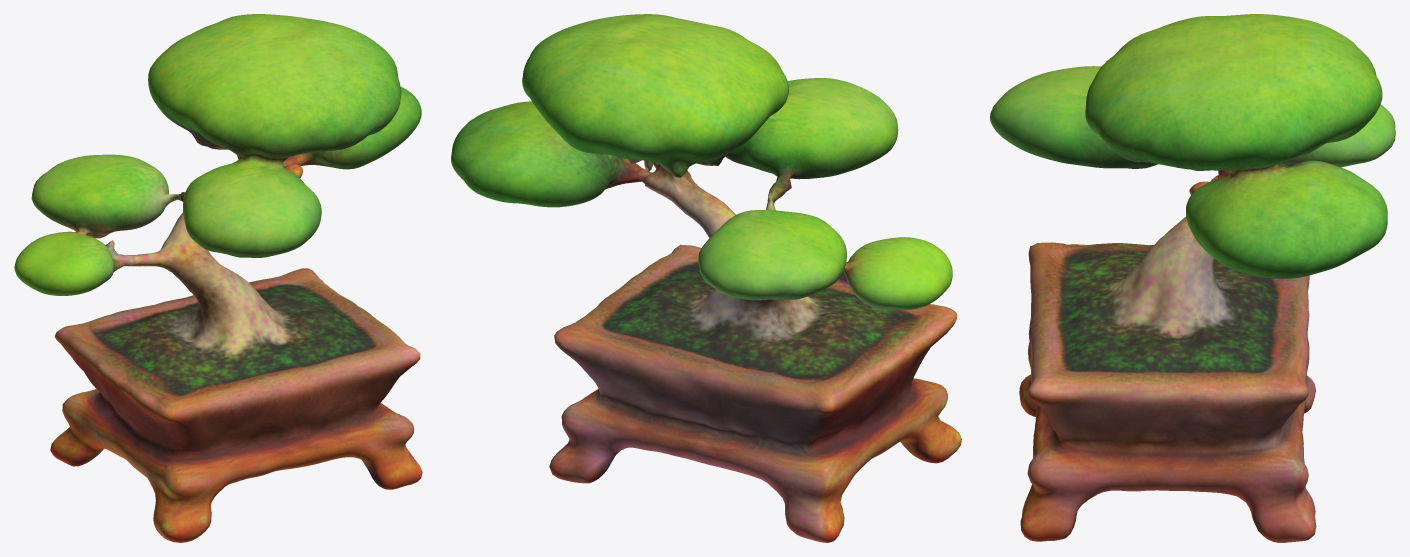
File: bush_pbr.glb
The picture shows the model from 3 angles, left to right: view 1: azimuth 30°, elevation 25°; view 2: azimuth 150°, elevation 25°; view 3: azimuth 270°, elevation 25°; orthographic projection. The views are drawn at different scales.
Visible parts, largest first — view 1: Mesh1; view 2: Mesh1; view 3: Mesh1.
Part boxes in pixels (x1,y1,x2,y2): Mesh1: [14, 14, 422, 542]; Mesh1: [451, 14, 961, 542]; Mesh1: [990, 14, 1395, 542].
Size of the model in its own units: 1.2 by 1.11 by 0.8534.
Materials: 1 (1 with a texture image).
